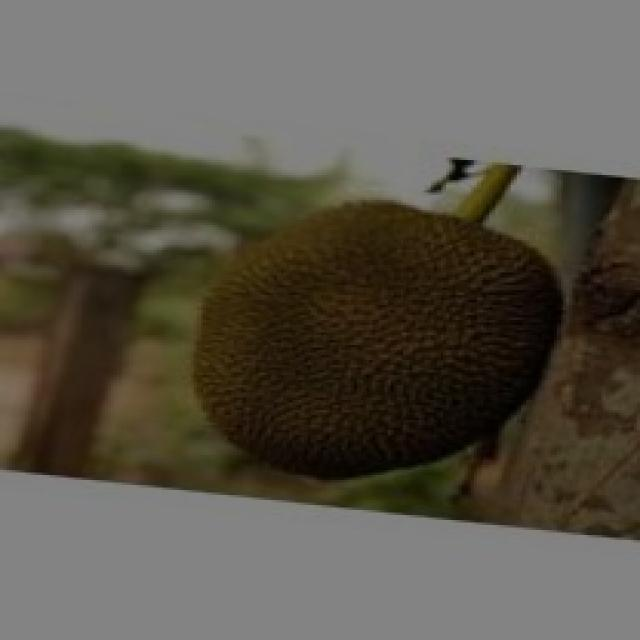Fruit: (166, 170, 588, 500)
